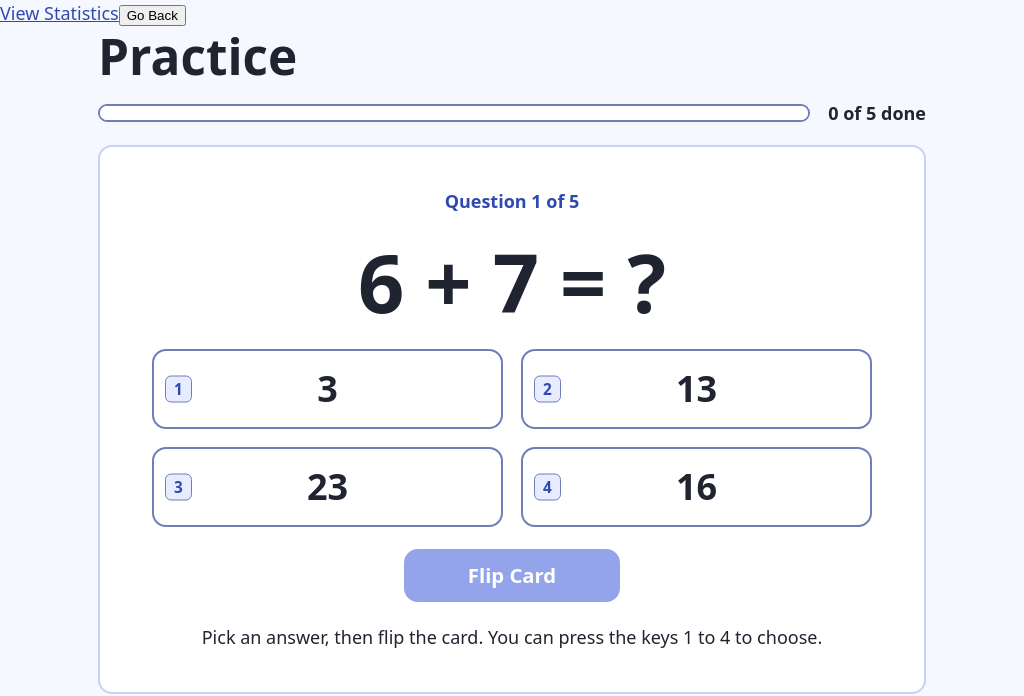
Test: leaving a session in progress › says how many answers will be kept
Click the button "1 3".
click(328, 389)  # box [152,349,503,429]
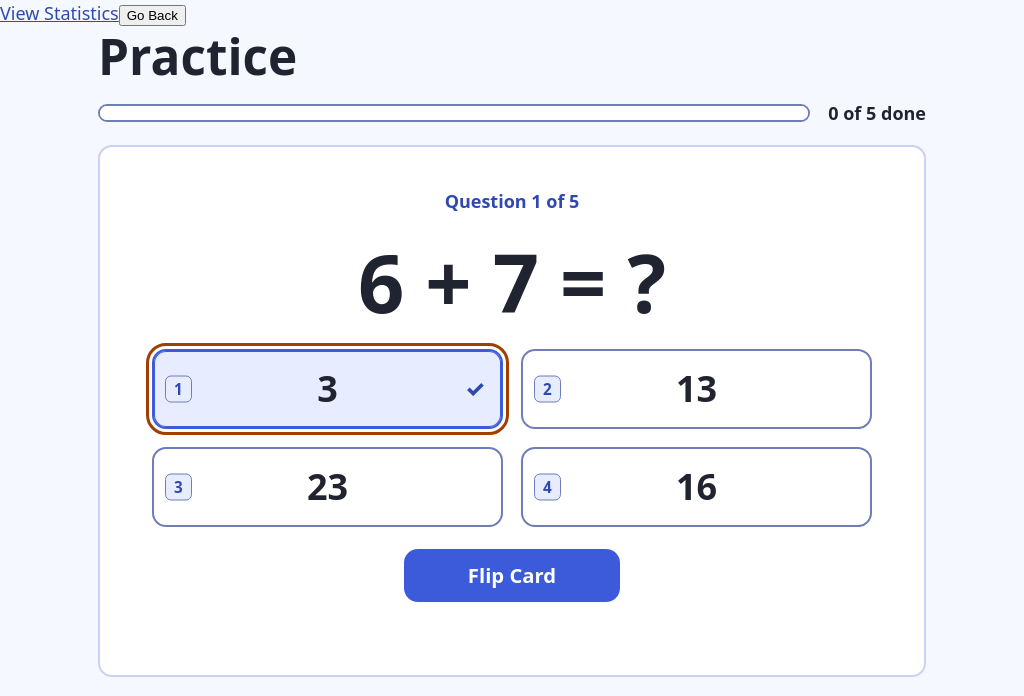
Click the button "Flip Card".
click(512, 576)  # box [404,549,620,602]
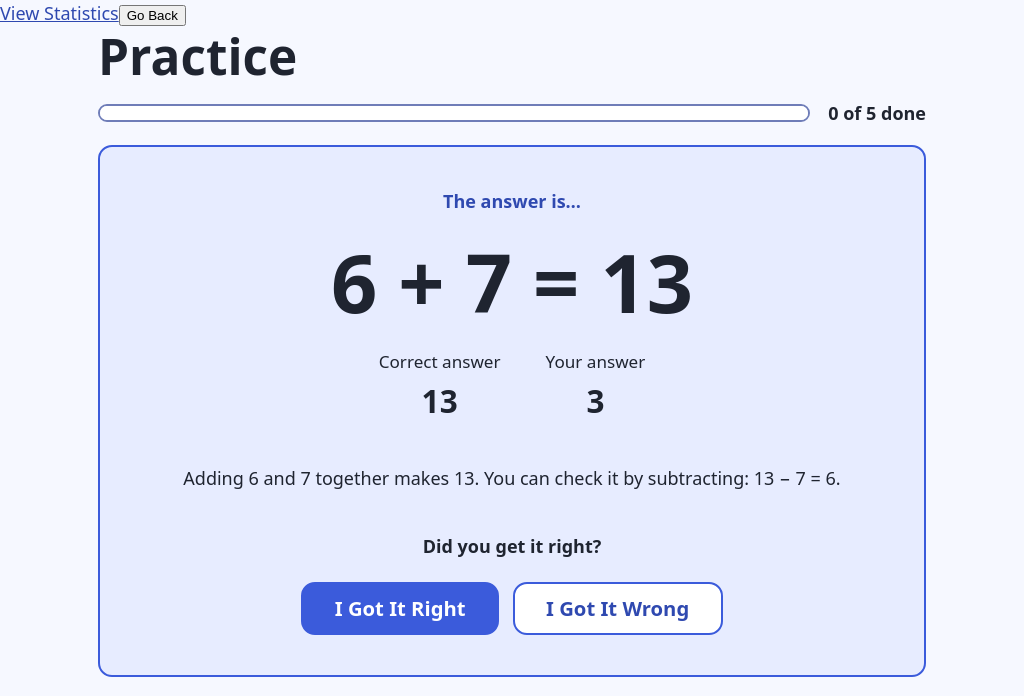
Click the button "I Got It Right".
click(400, 608)  # box [301,582,499,634]
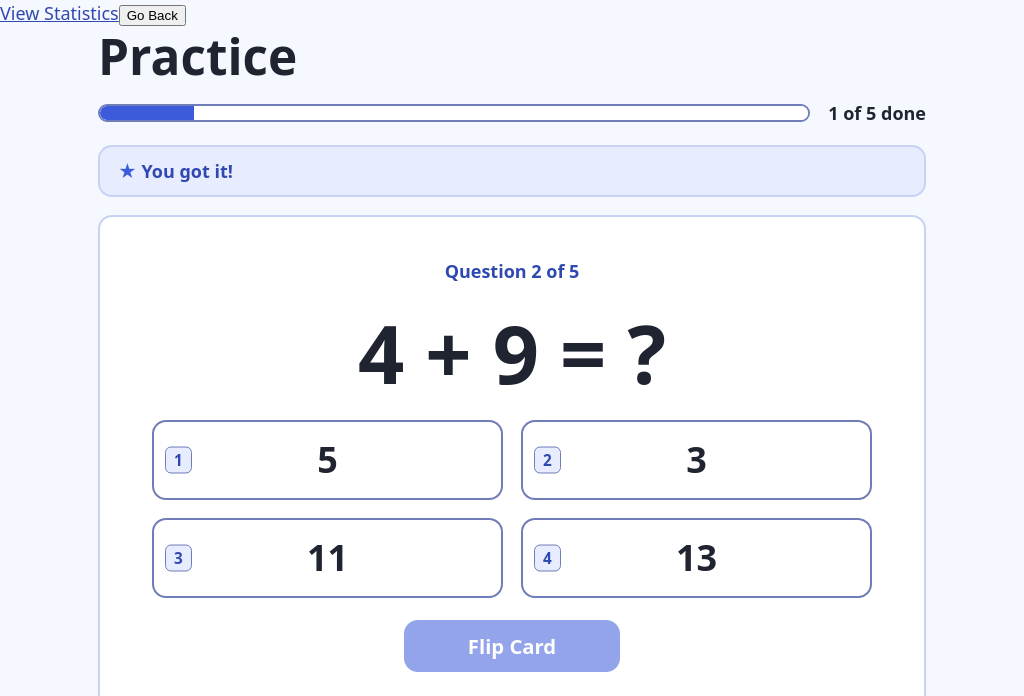
Click the link "View Statistics".
click(59, 13)  # box [0,1,119,25]
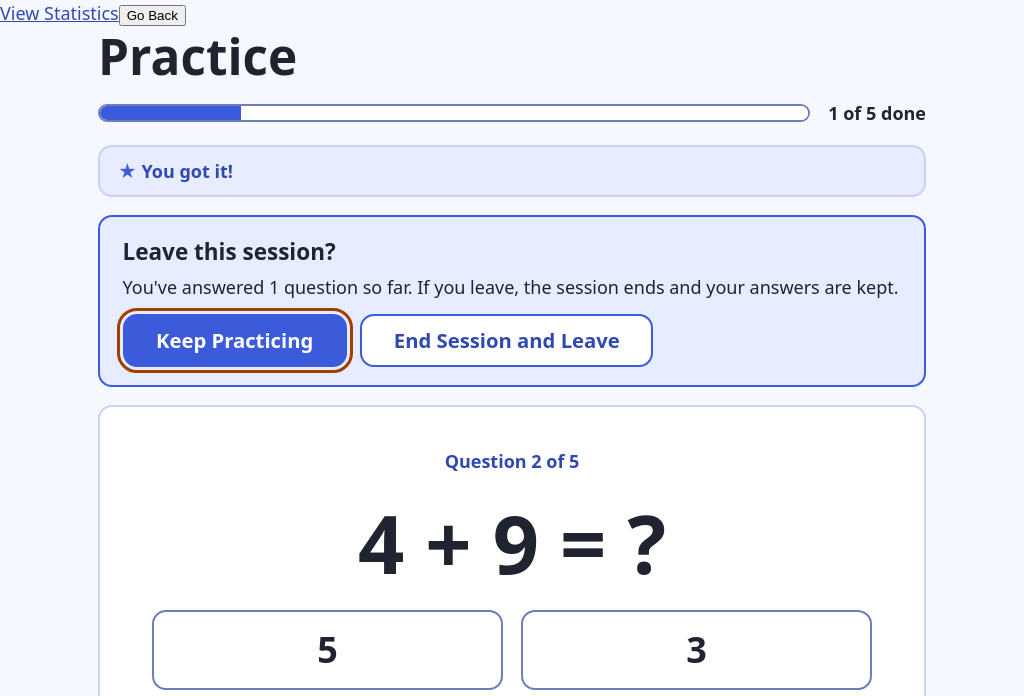
Expected: the dialog shows "You've answered 1 question so far. If you leave, the session ends and your answers are kept.", [122,275,899,299]
